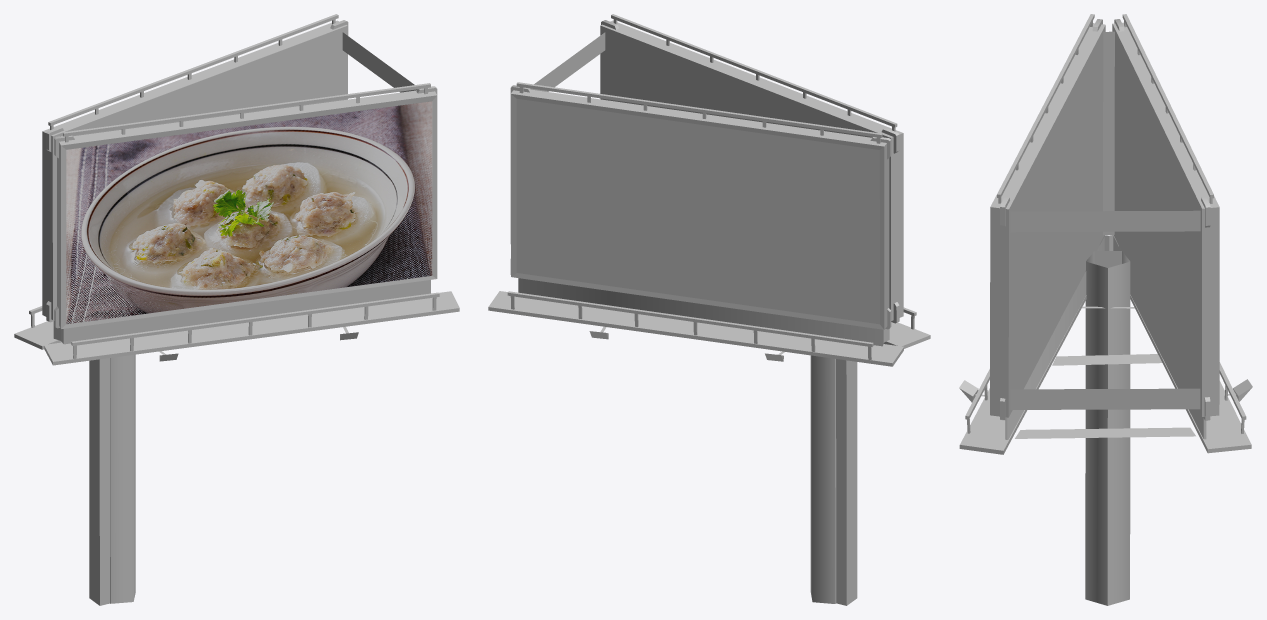
File: soup.dae
3 views of the same model, side by side, from view 1: azimuth 30°, elevation 25°; view 2: azimuth 150°, elevation 25°; view 3: azimuth 270°, elevation 25° (orthographic). The views are drawn at different scales.
Visible parts, largest first — view 1: soup, Base; view 2: Pic1, Base; view 3: Base.
Part boxes in pixels (x1,y1,x2,y2): soup: (66,101,432,324); Base: (14,14,459,605); Pic1: (516,99,879,324); Base: (488,14,930,605); Base: (959,14,1252,605).
Size of the model in its own units: 724 by 900 by 437.
